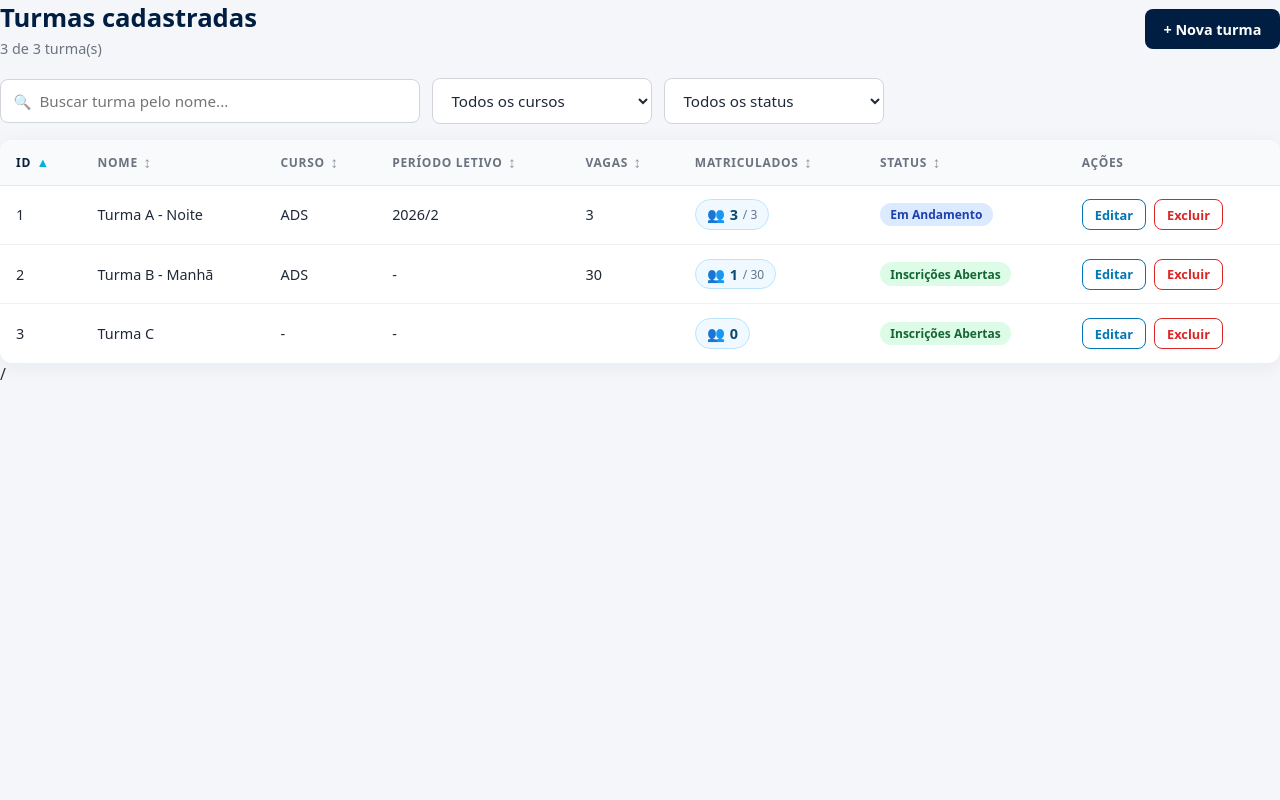
Scenario: abre a lista de alunos da turma, com os ativos primeiro
expect the text "Turma A - Noite" is shown: met, box [82,185,264,244]
Click the button "👥 3 / 3" at coordinates (732, 215), box [695,200,769,230]
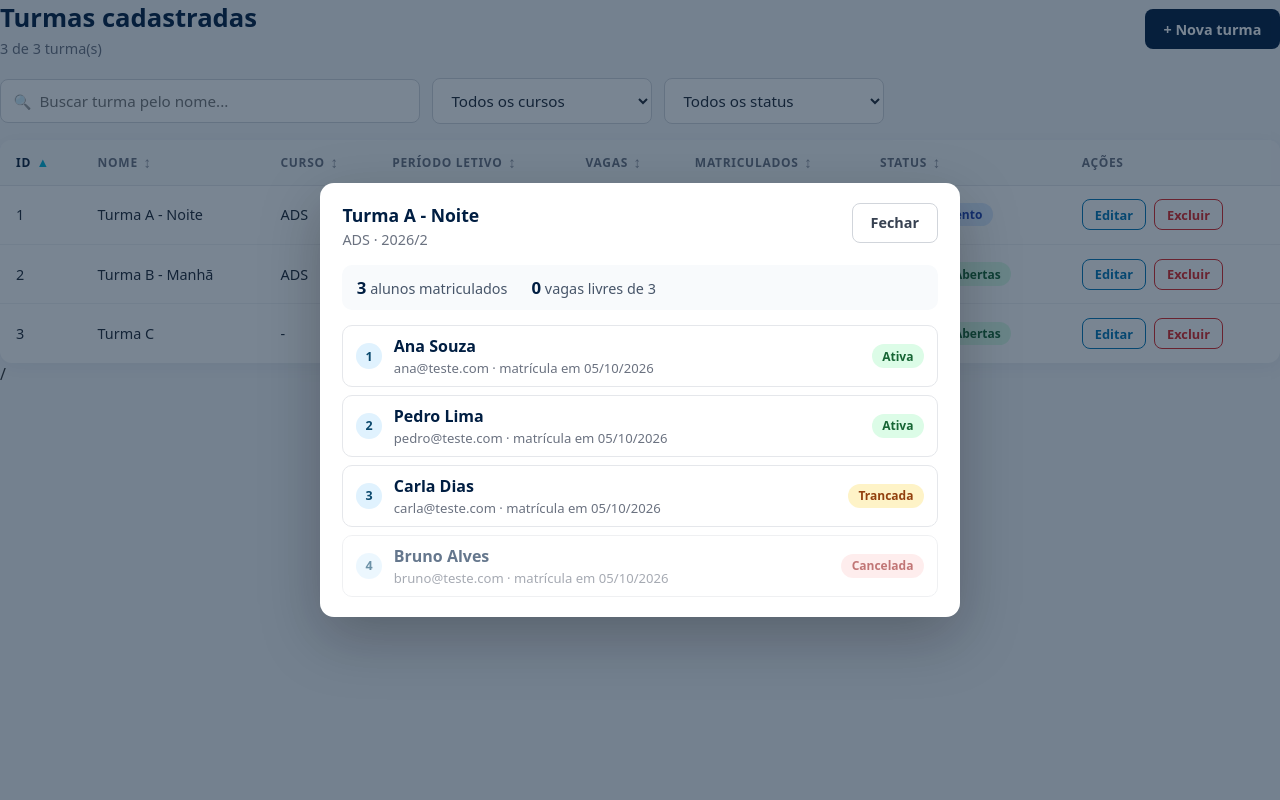
expect the text "ADS · 2026/2" is shown: met, box [342,230,428,249]
expect the dialog named "Alunos da Turma A - Noite" shows "3 alunos matriculados": met
expect the dialog named "Alunos da Turma A - Noite" shows "0 vagas livres de 3": met
Click the button "Fechar" at coordinates (895, 223), box [852,203,938,243]
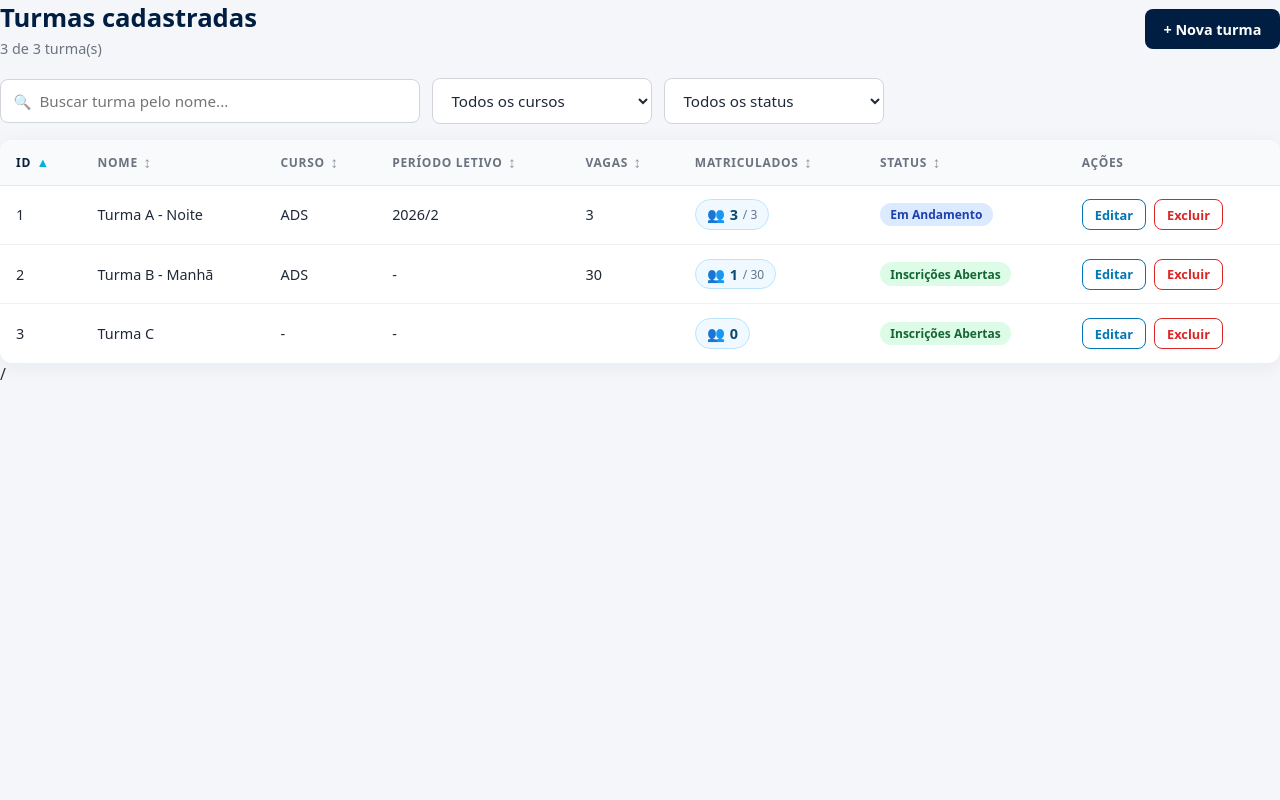
expect the dialog is gone: met
